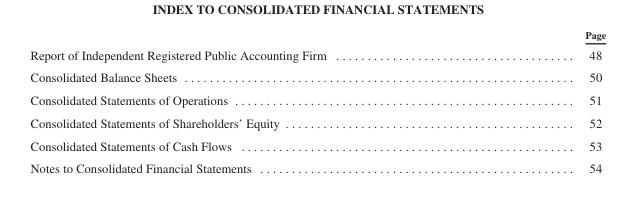table: (29, 29, 605, 175)
table column: (29, 29, 455, 175), (455, 29, 605, 175)
table column header: (29, 29, 605, 43)
table row: (29, 65, 605, 88), (29, 88, 605, 111), (29, 133, 605, 156), (29, 43, 605, 65), (29, 111, 605, 133), (29, 156, 605, 175), (29, 29, 605, 43)
